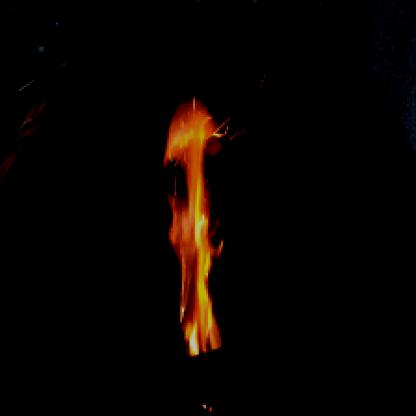Fire: (156, 89, 240, 359)
